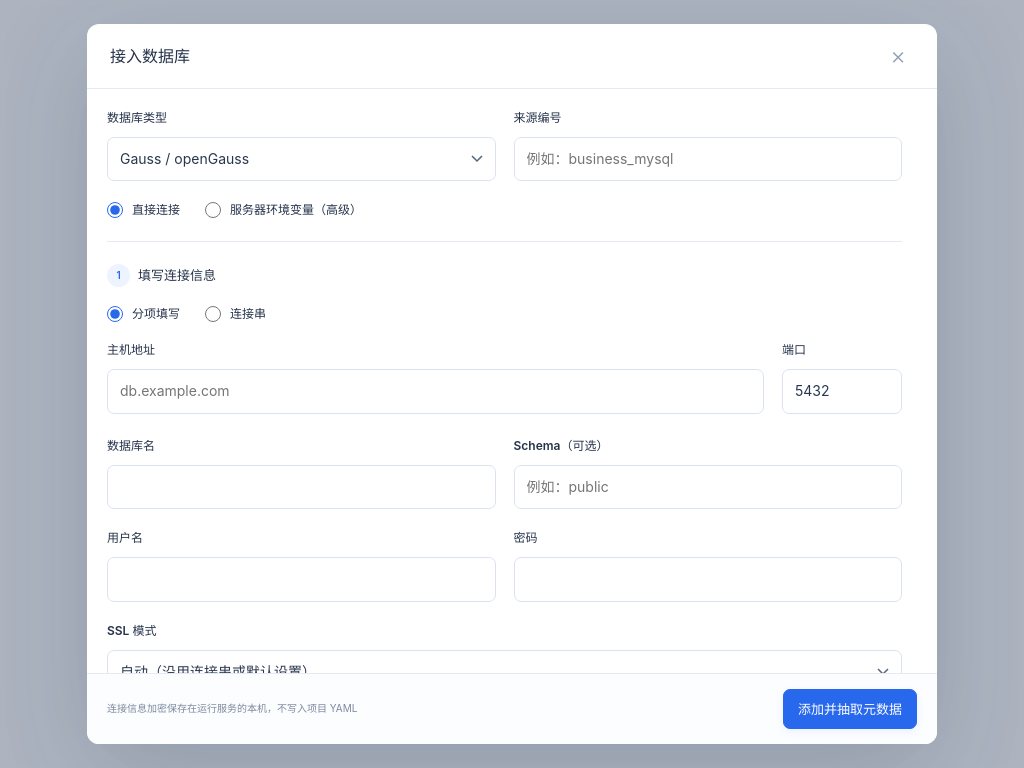
Test case: 数据库连接弹窗 › 显式关闭会清除凭据并通知父组件
Select "Gauss / openGauss" in the dropdown with id "database-kind" at (301, 159), box [107, 137, 496, 181]
Type "fake-source" into the field with id "database-id" at (708, 159), box [514, 137, 902, 181]
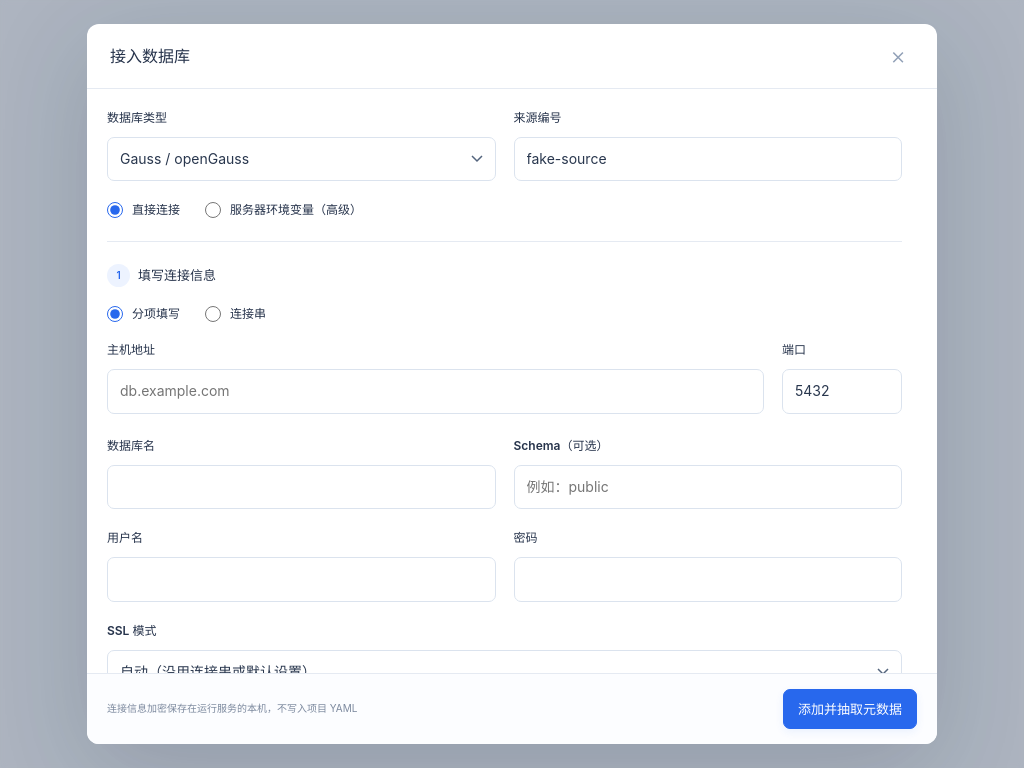
Type "example.invalid" into the field with id "database-host" at (436, 392), box [107, 369, 764, 414]
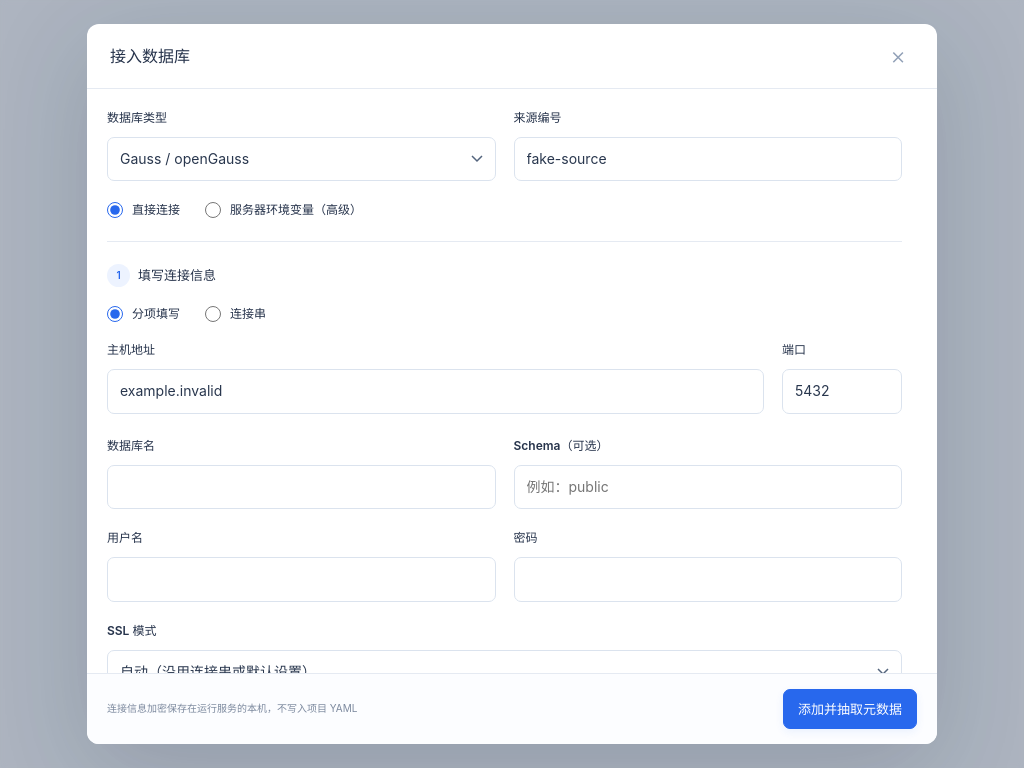
Type "fixture_db" into the field with id "database-name" at (301, 487), box [107, 465, 496, 509]
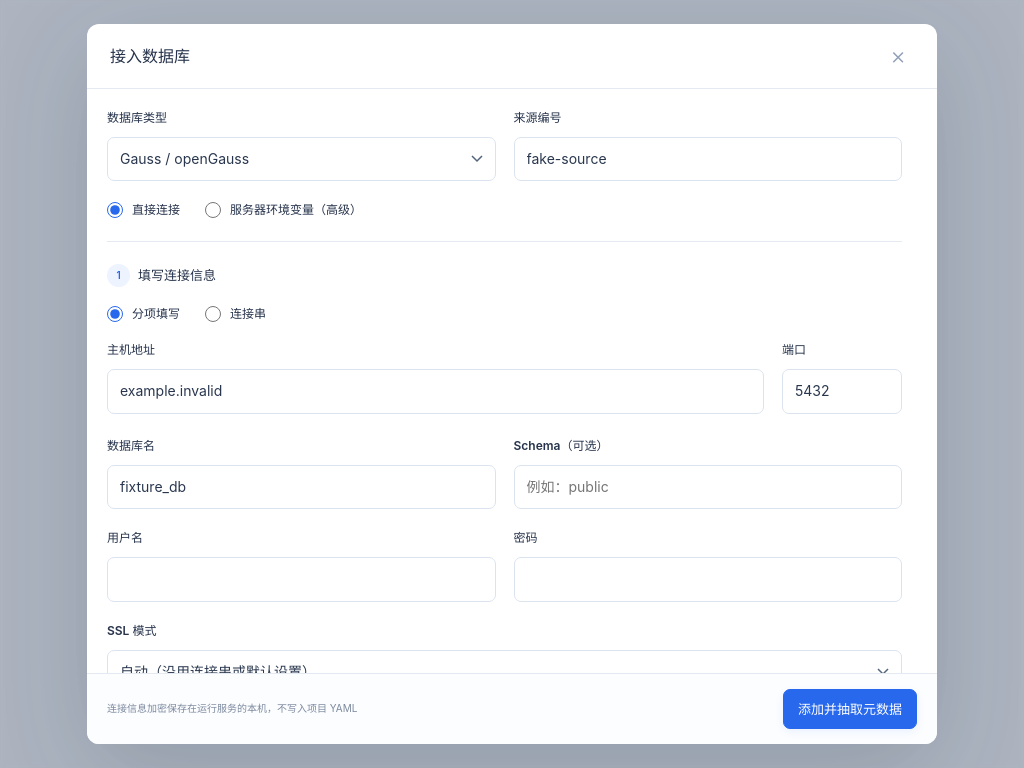
Type "fake_reader" into the field with id "database-username" at (301, 579), box [107, 557, 496, 602]
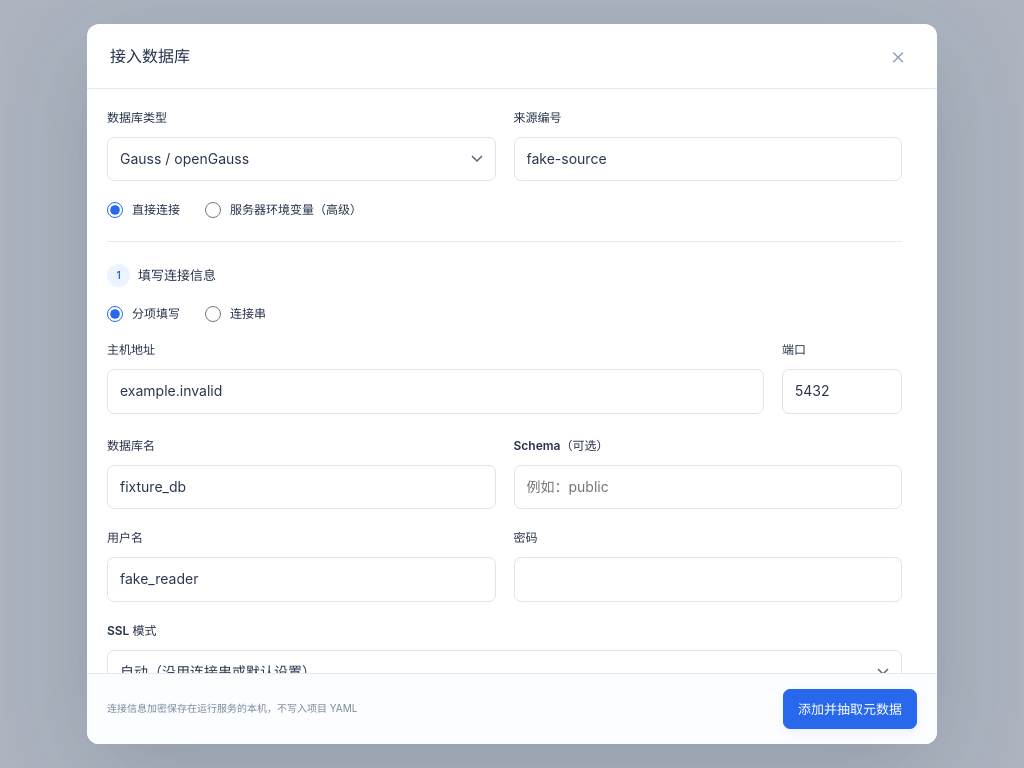
Type "fake-password-for-tests" into the password field with id "database-password" at (708, 579), box [514, 557, 902, 602]
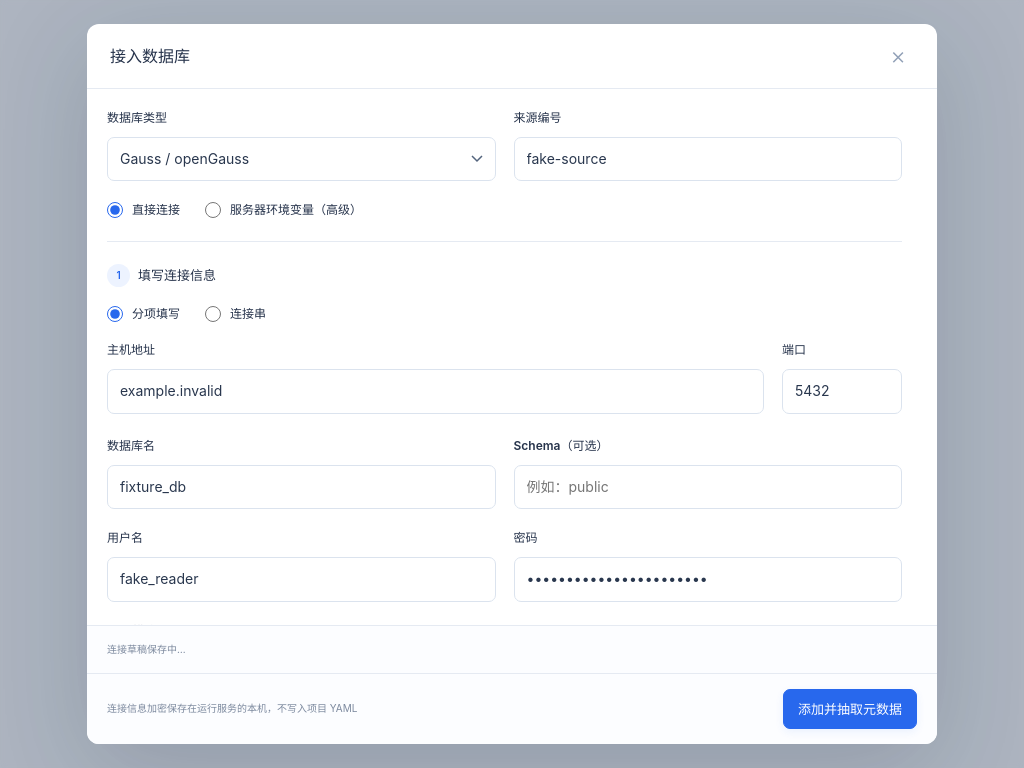
Click the button "×" at (898, 56), box [882, 40, 914, 72]
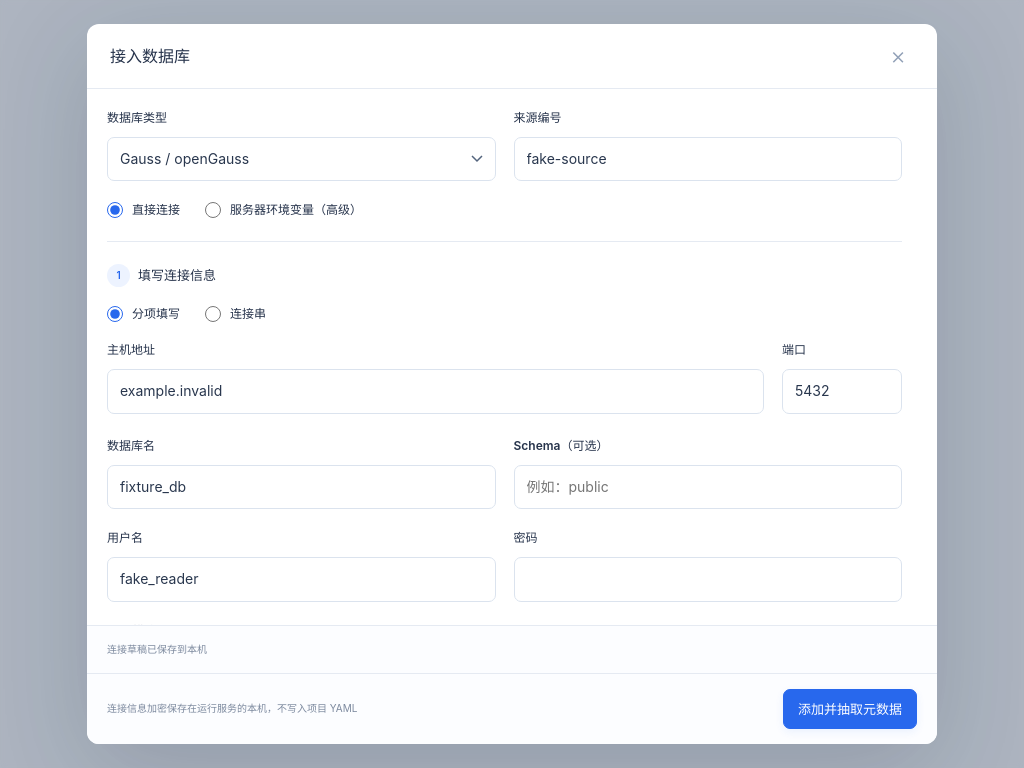
Now the password field with id "database-password" is empty, box [514, 557, 902, 602]
